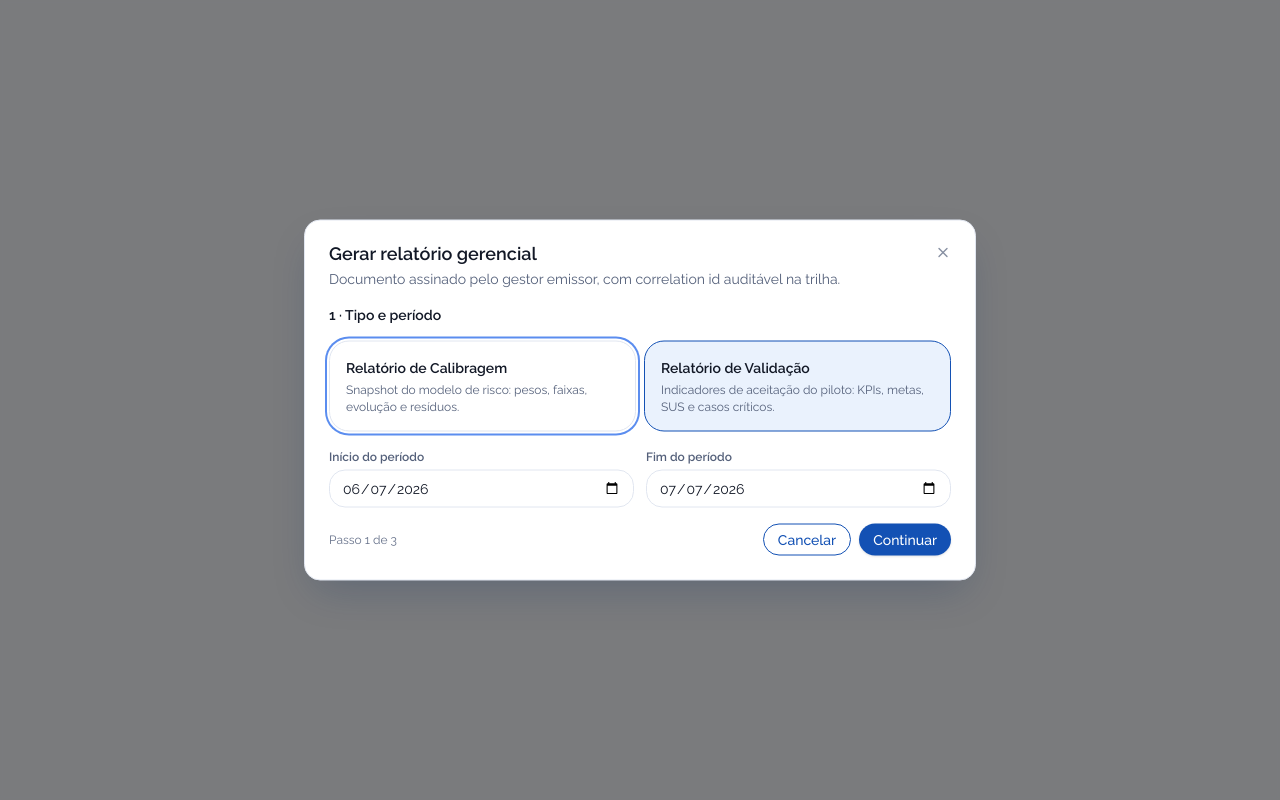
Test: ReportGeneratorModal — passos e payload (T17) › desabilita 'Gerar PDF' quando nenhuma seção está marcada
Click the button "Continuar" at (905, 540), box [859,524,951,556]
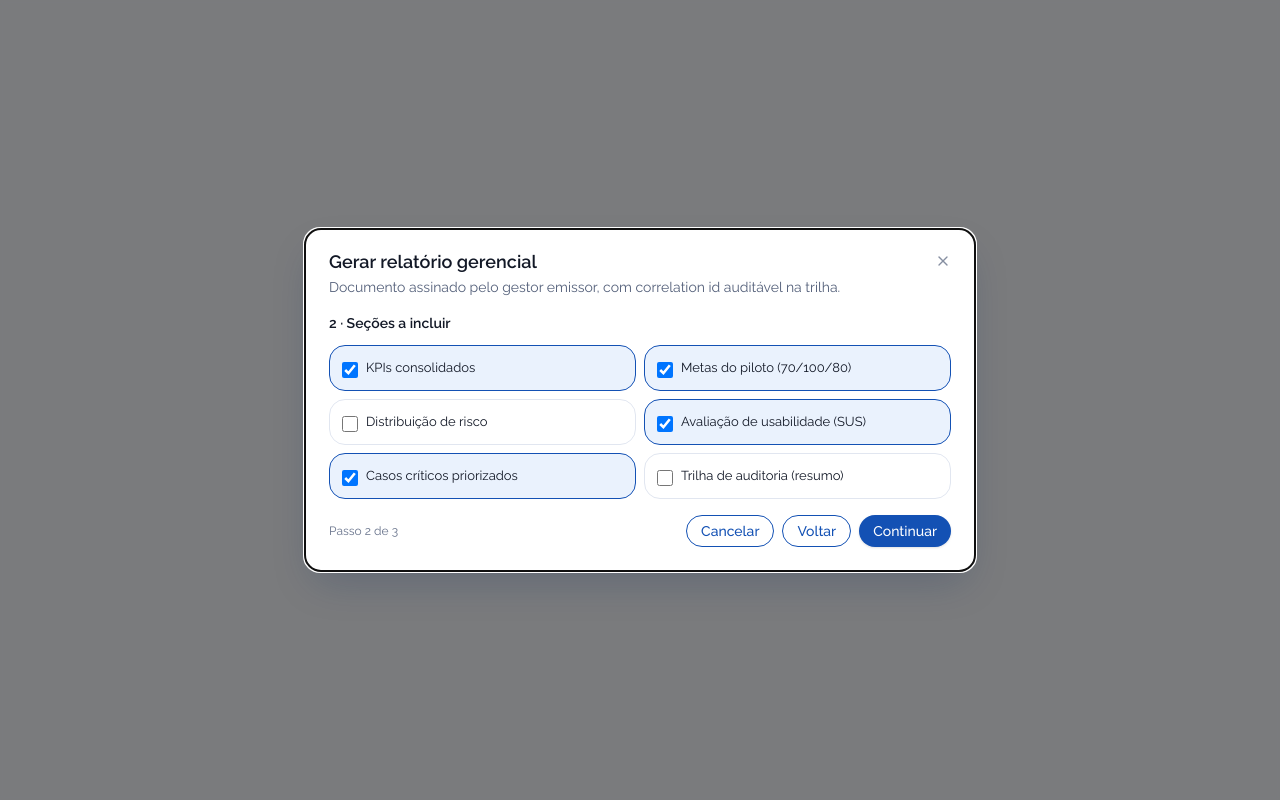
Click the checkbox labelled "KPIs consolidados" at (350, 370), box [342,362,358,378]
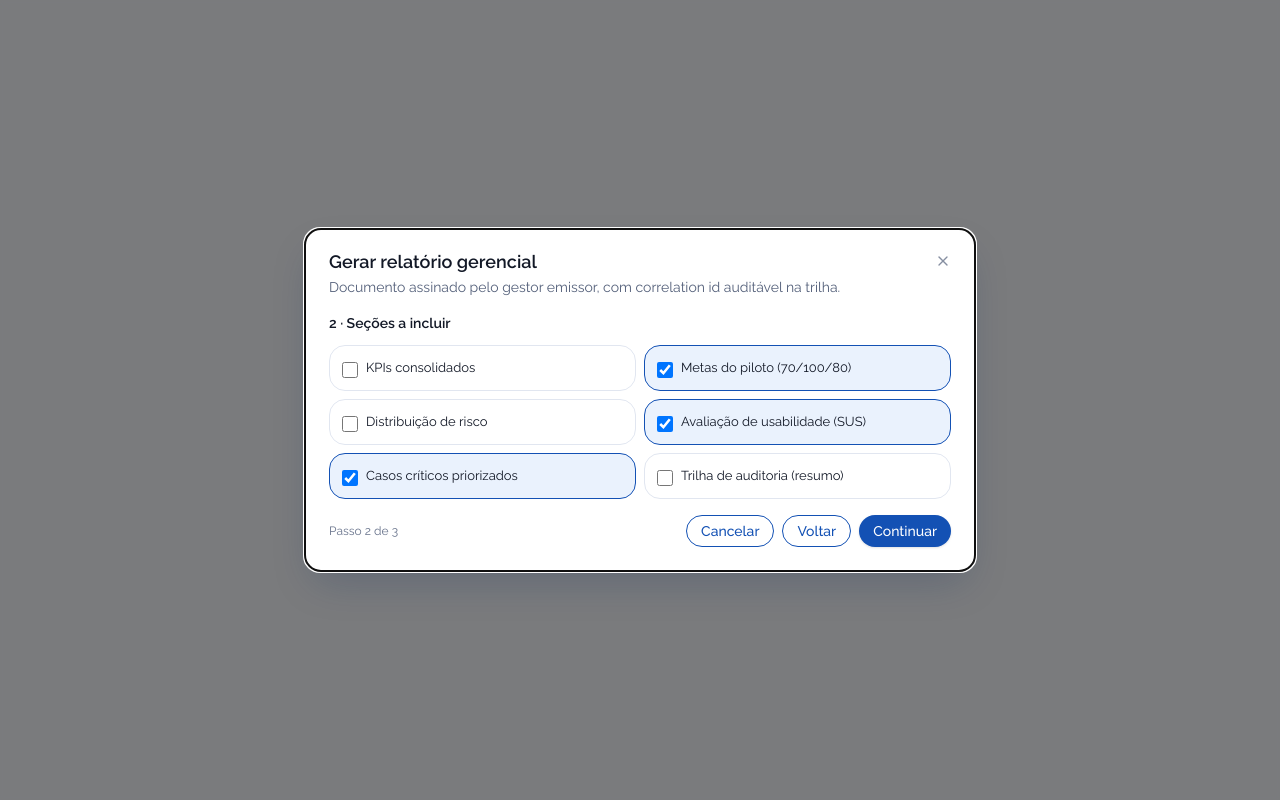
Click the checkbox labelled "Metas do piloto (70/100/80)" at (665, 370), box [657,362,673,378]
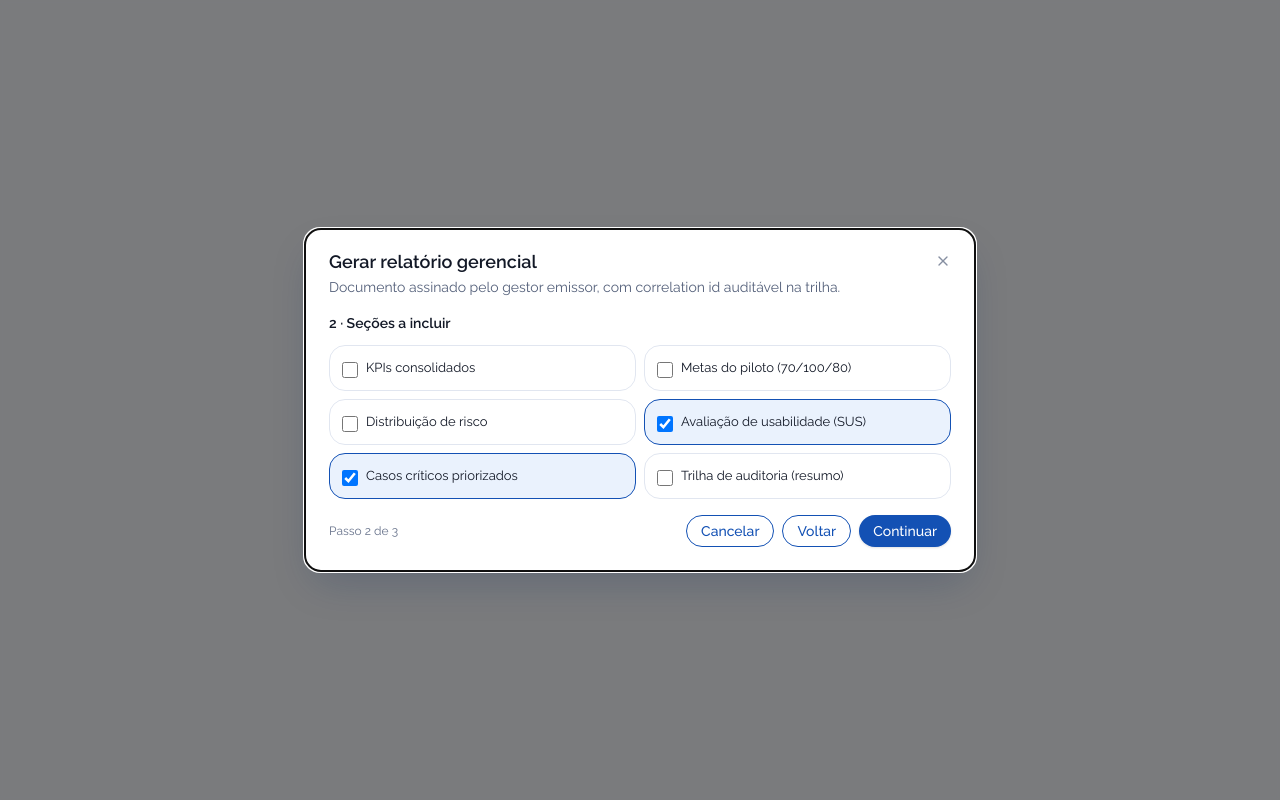
Click the checkbox labelled "Avaliação de usabilidade (SUS)" at (665, 424), box [657,416,673,432]
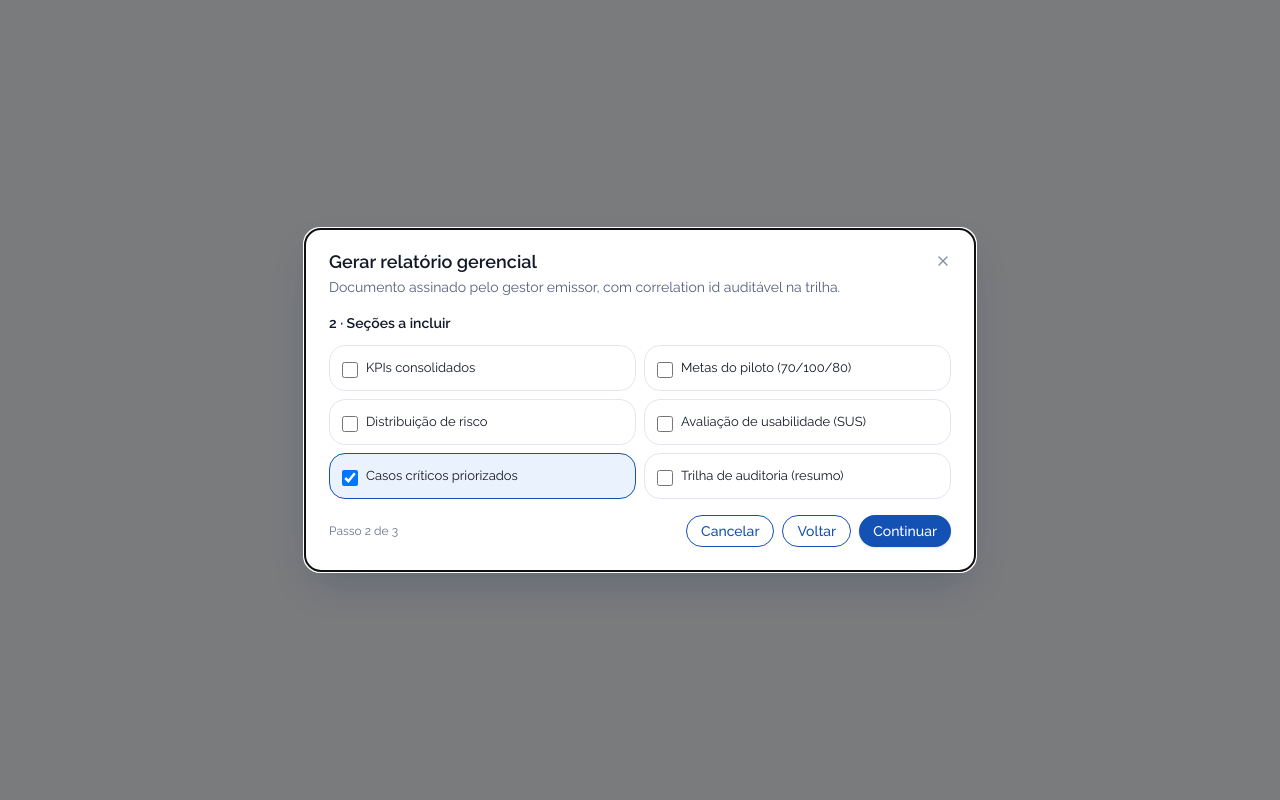
Click the checkbox labelled "Casos críticos priorizados" at (350, 478), box [342,470,358,486]
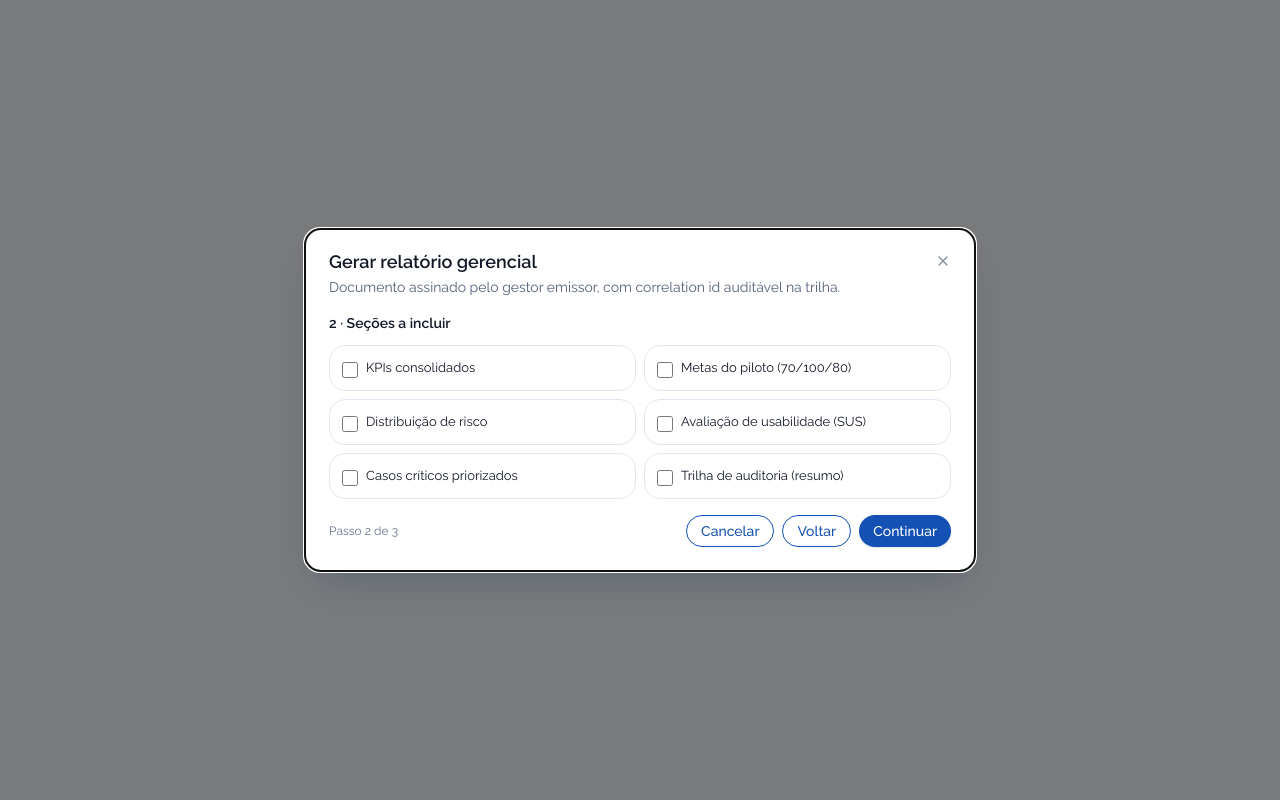
Click the button "Continuar" at (905, 531), box [859,515,951,547]
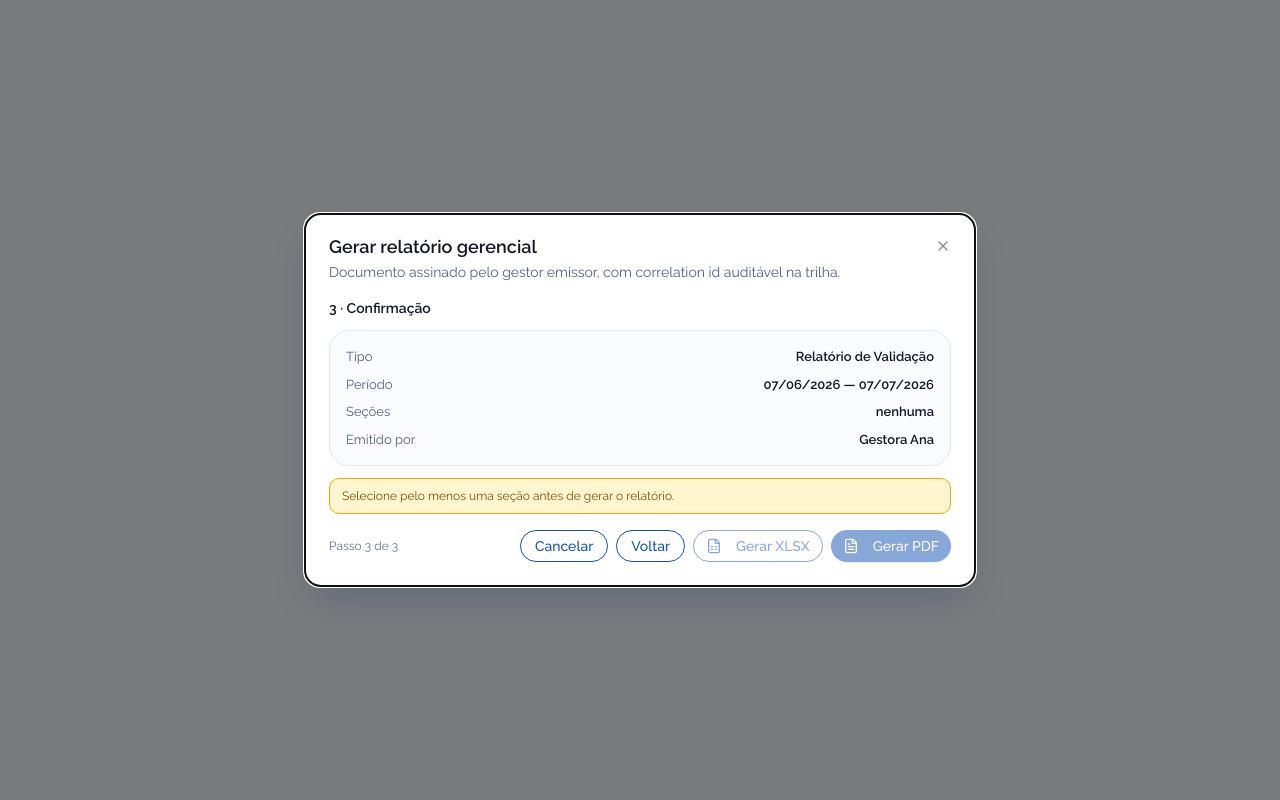
Now the button "Gerar PDF" is disabled, box [831,530,951,562]
